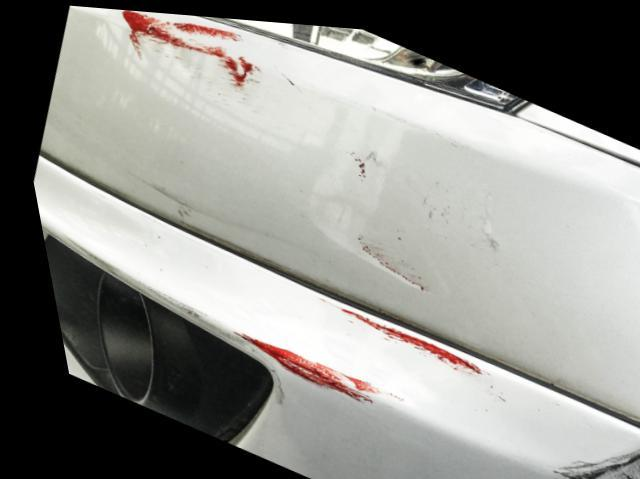scratch: (112, 7, 496, 285), (49, 232, 365, 398), (317, 298, 492, 393), (529, 431, 640, 479)
